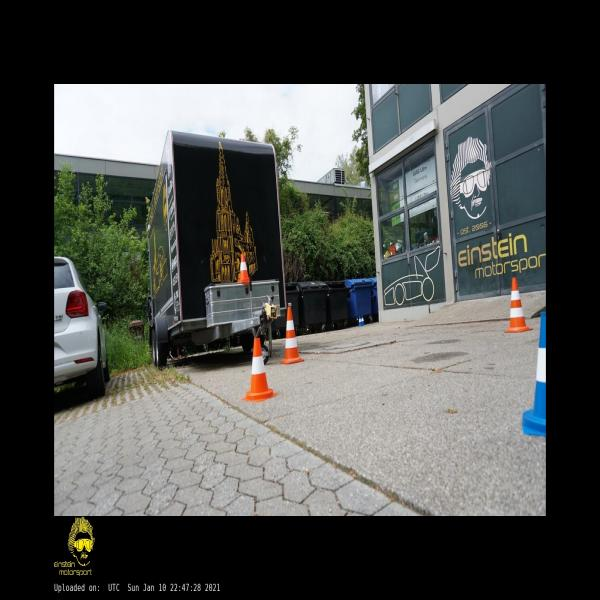blue_cone: (522, 312, 546, 436)
large_orange_cone: (504, 278, 533, 332), (280, 306, 304, 364)
orange_cone: (241, 338, 278, 401), (238, 253, 250, 283)
